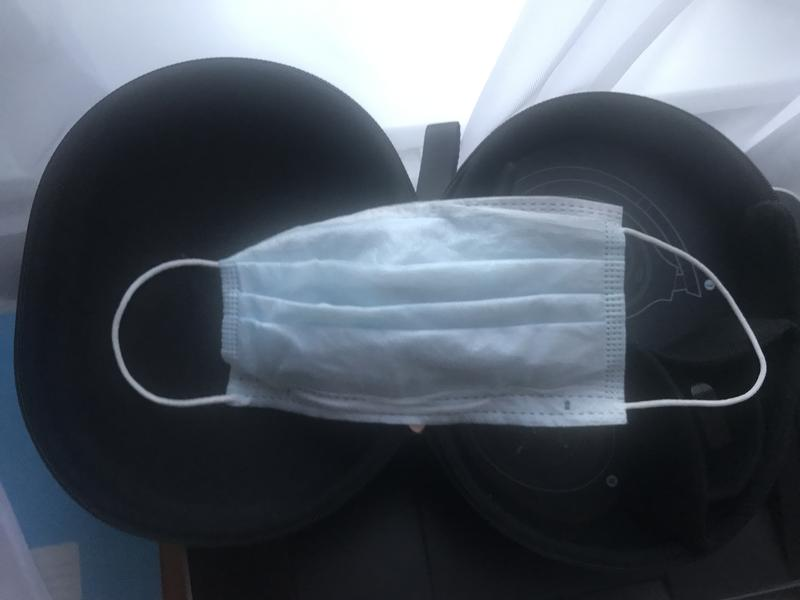medical_mask: (112, 197, 769, 426)
